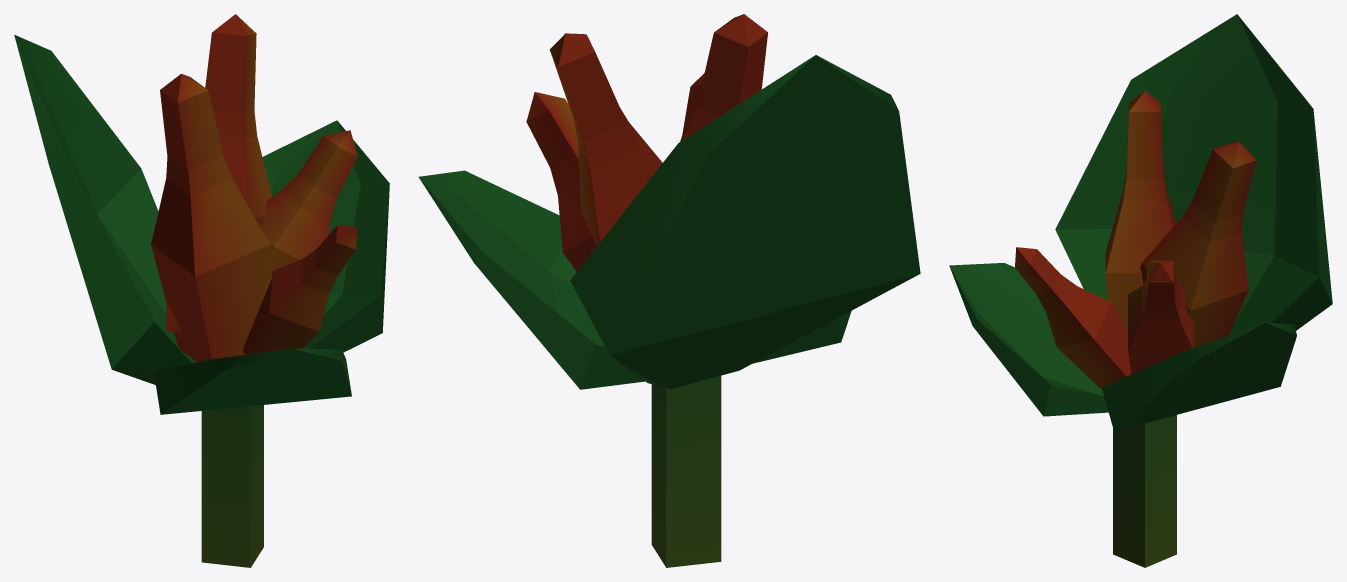
The model's file is SM_DwarfWillow.fbx.
3 renders of one model, left to right at view 1: azimuth 30°, elevation 25°; view 2: azimuth 150°, elevation 25°; view 3: azimuth 270°, elevation 25°, orthographic. The views are drawn at different scales.
Visible parts, largest first — view 1: SM_DwarfWillow; view 2: SM_DwarfWillow; view 3: SM_DwarfWillow.
Boxes of the visible parts, left/top/right/bottom form: SM_DwarfWillow: left=14, top=14, right=389, bottom=567; SM_DwarfWillow: left=418, top=14, right=920, bottom=567; SM_DwarfWillow: left=949, top=14, right=1332, bottom=567.
Bounding box in the file's own units: 9.5 × 13.01 × 9.67.
